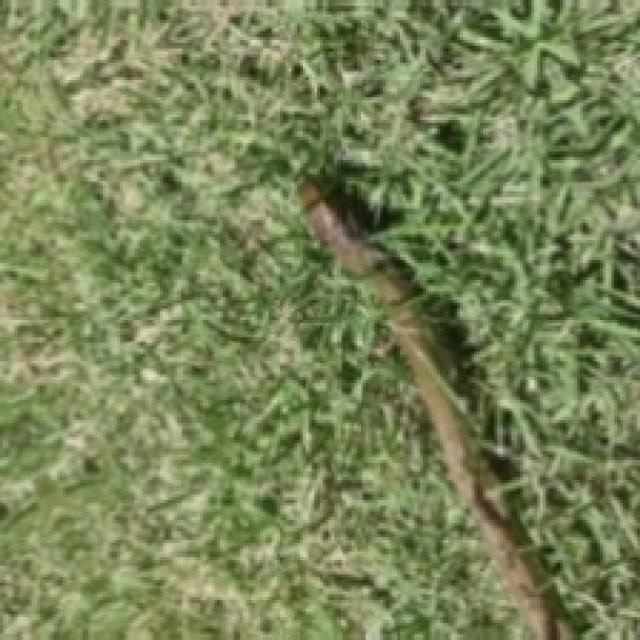reddish rat snake: (300, 180, 574, 637)
